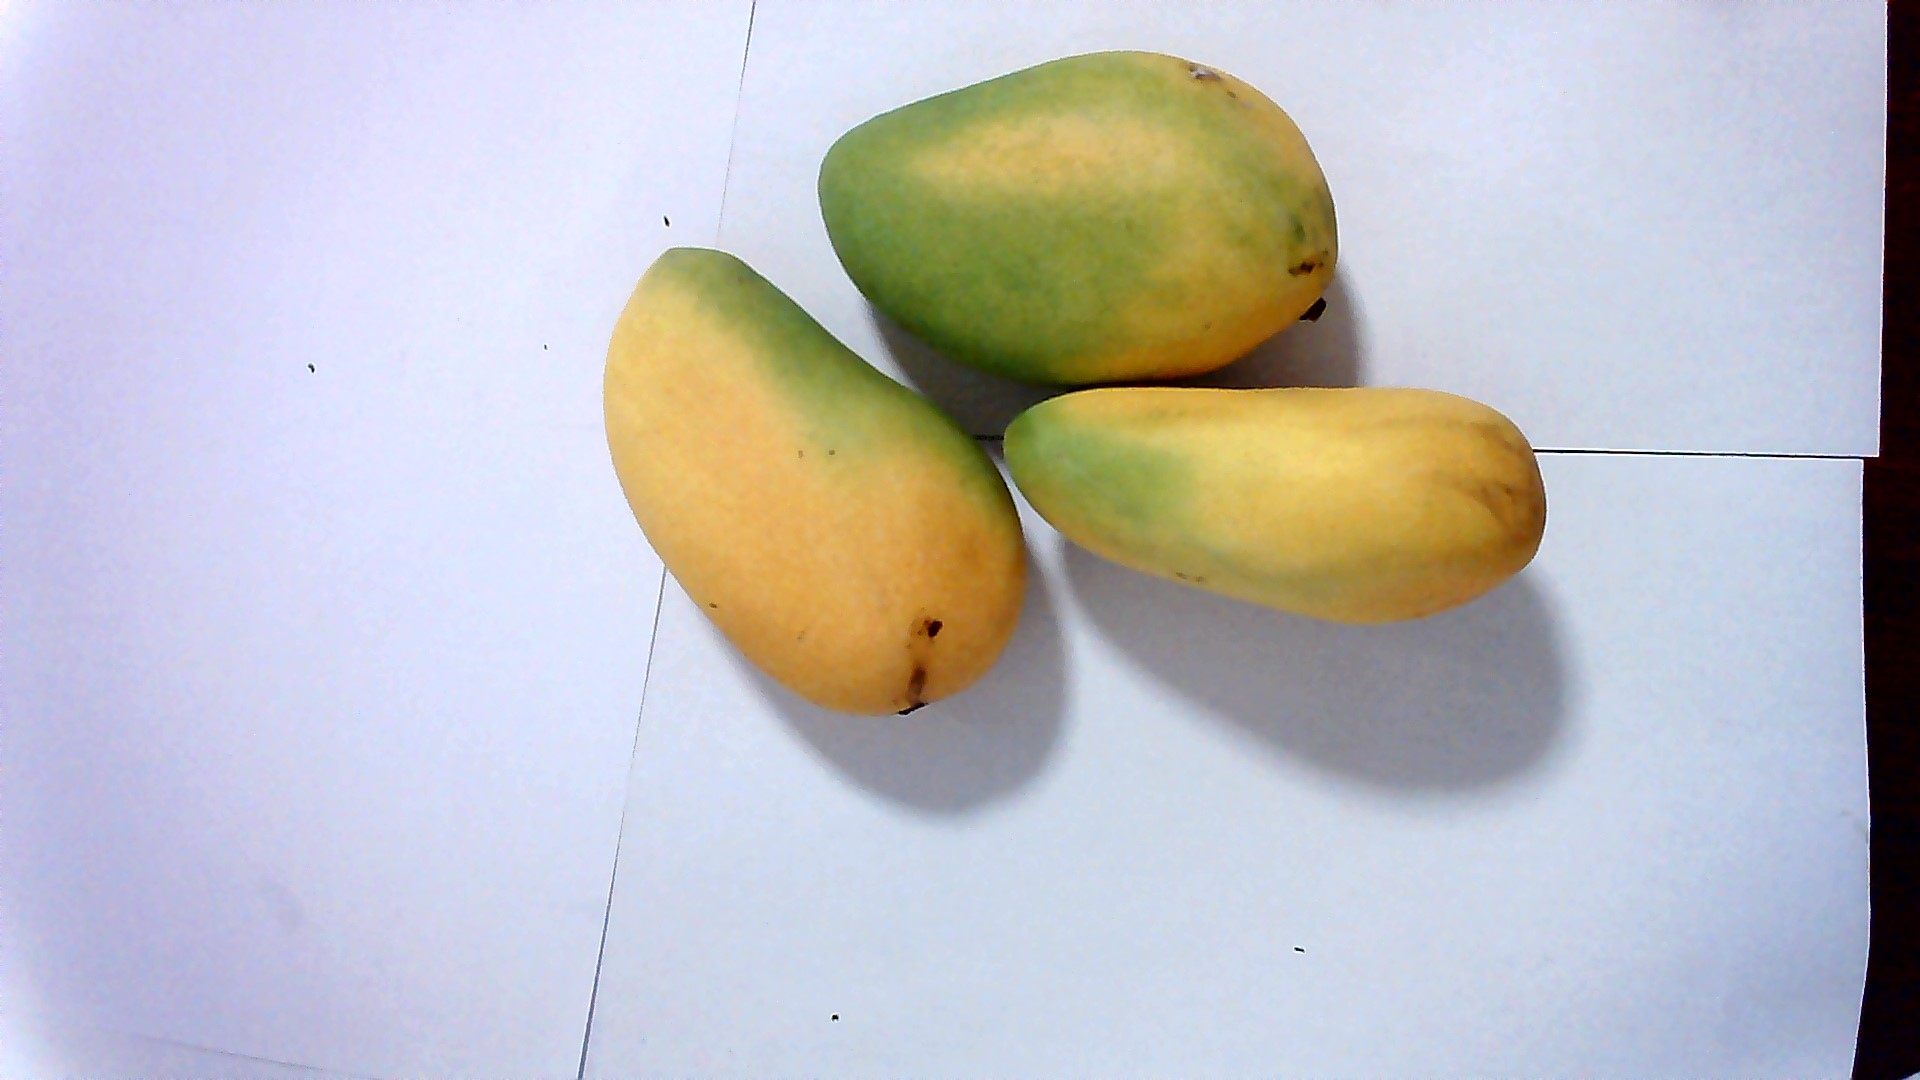mongo: (601, 241, 1033, 731), (824, 47, 1364, 378), (1004, 360, 1540, 633)
